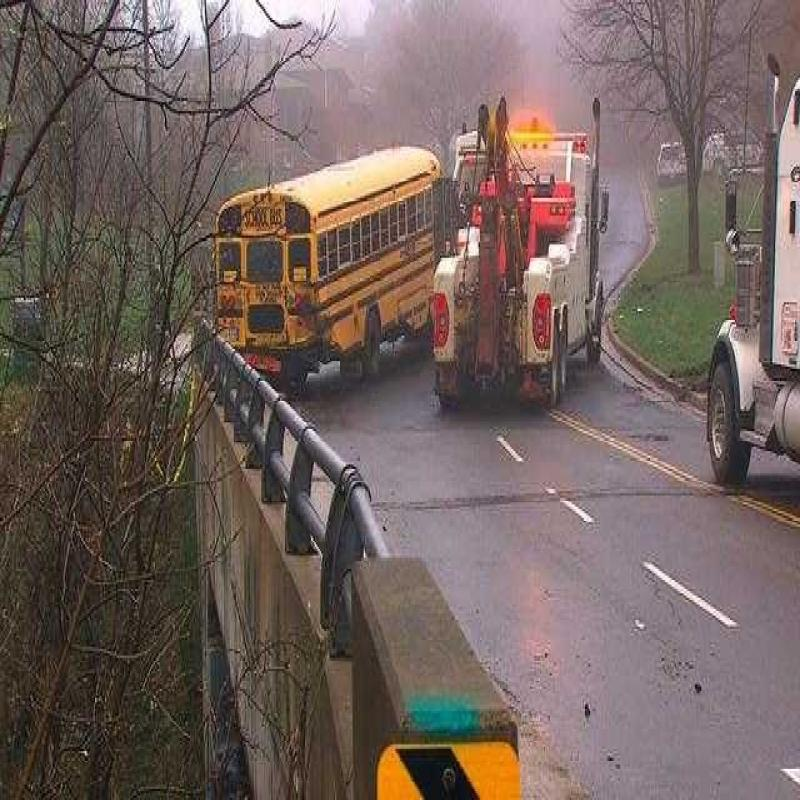bus: (192, 128, 416, 388), (441, 113, 622, 402)
